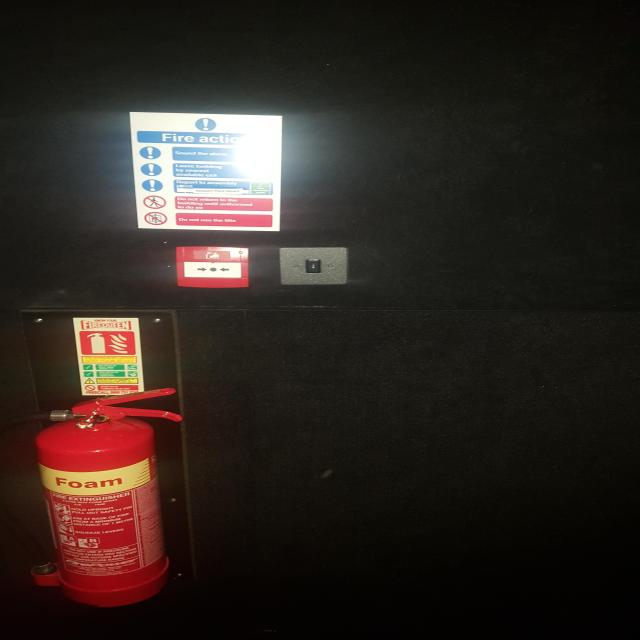fire_extinguisher: (0, 381, 184, 611)
